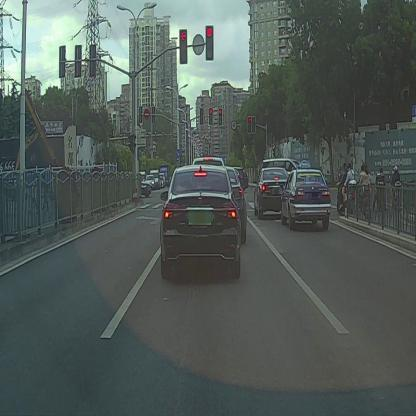Red Light: (206, 25, 214, 59), (208, 106, 214, 125), (218, 109, 223, 126)
